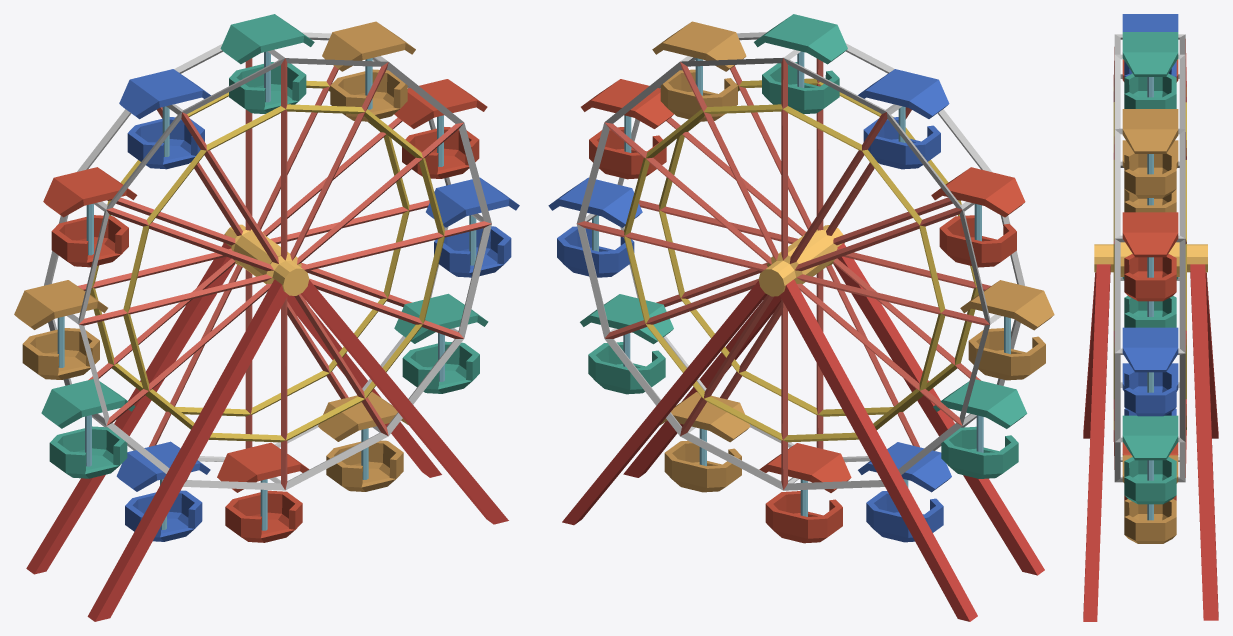
File: PUSHILIN_ferris_wheel.gltf
3 views of the same model, side by side, from view 1: azimuth 30°, elevation 25°; view 2: azimuth 150°, elevation 25°; view 3: azimuth 270°, elevation 25° (orthographic). The views are drawn at different scales.
Visible parts, largest first — view 1: node-0; view 2: node-0; view 3: node-0.
Part boxes in pixels (x1,y1,x2,y2): node-0: (14,14,519,621); node-0: (548,14,1054,621); node-0: (1083,14,1218,621).
Bounding box in the file's own units: 2.25 × 2.26 × 0.5711.
